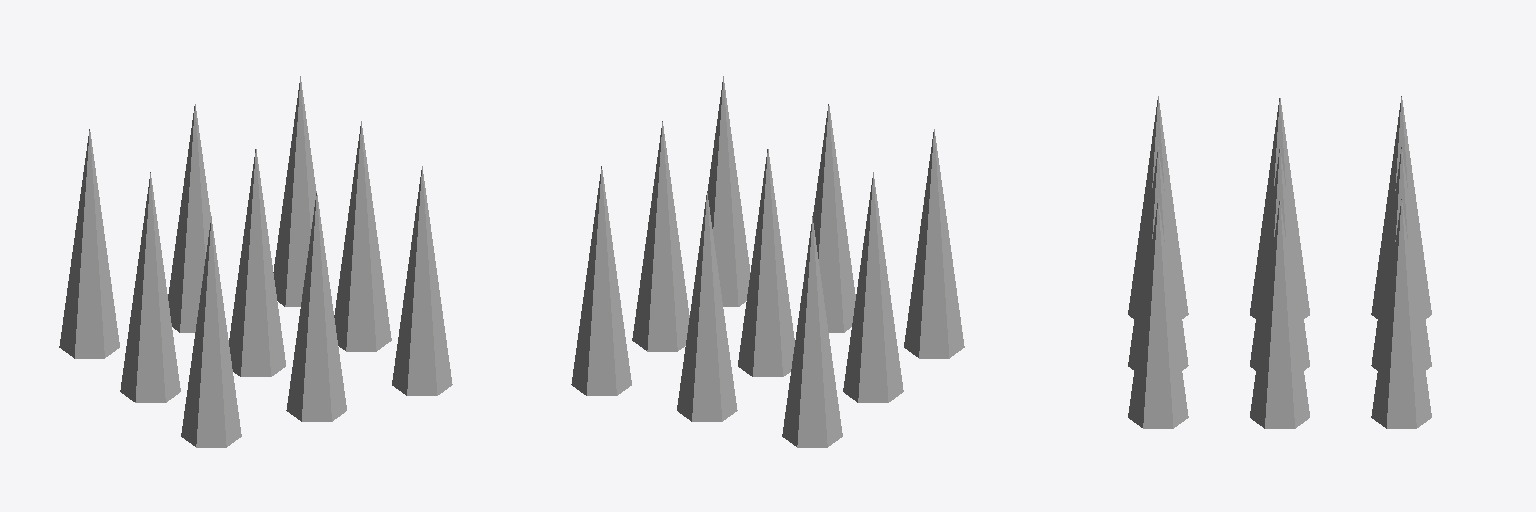
File: spikes.obj
3 views of the same model, side by side, from view 1: azimuth 30°, elevation 25°; view 2: azimuth 150°, elevation 25°; view 3: azimuth 270°, elevation 25° (orthographic).
Parts seen in each view (by area): view 1: Cone; view 2: Cone; view 3: Cone.
Boxes of the visible parts, <box> form: Cone: <box>59,76,452,447</box>; Cone: <box>571,76,964,447</box>; Cone: <box>1128,96,1431,428</box>.
Size of the model in its own units: 2.43 by 2 by 2.5.